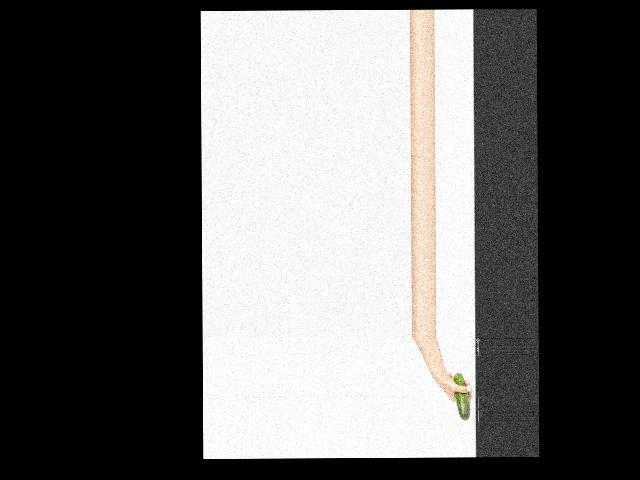cucumber: (454, 373, 470, 421)
